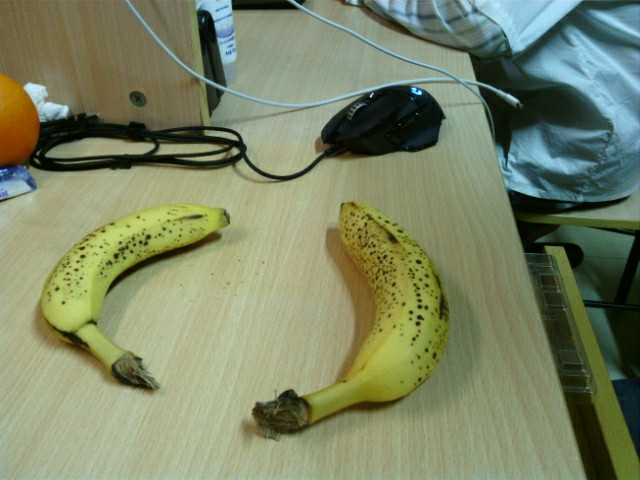normal_banana: (254, 202, 448, 440), (40, 203, 230, 393)
